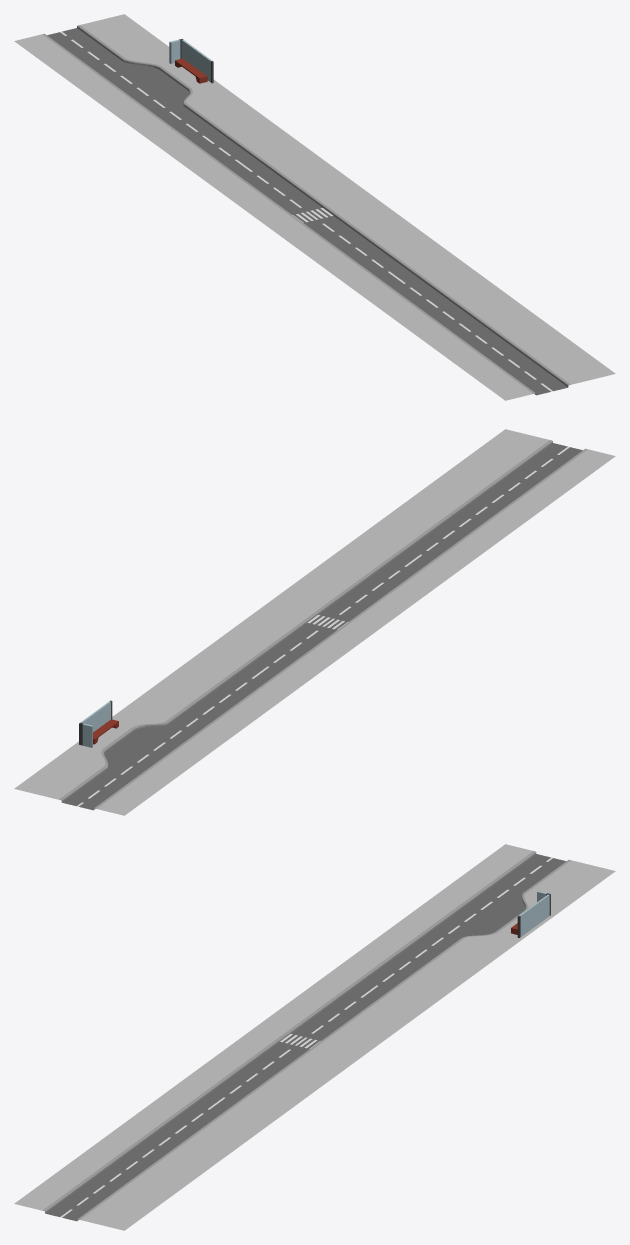
The model's file is tutorialroad.fbx.
3 views of the same model, one above another, from view 1: azimuth 30°, elevation 25°; view 2: azimuth 150°, elevation 25°; view 3: azimuth 330°, elevation 25° (orthographic).
Visible parts, largest first — view 1: Plane.001; view 2: Plane.001; view 3: Plane.001.
Boxes of the visible parts, <box> form: Plane.001: <box>14,14,615,400</box>; Plane.001: <box>14,429,615,815</box>; Plane.001: <box>14,844,615,1230</box>.
Size of the model in its own units: 1256 by 254 by 9668.
